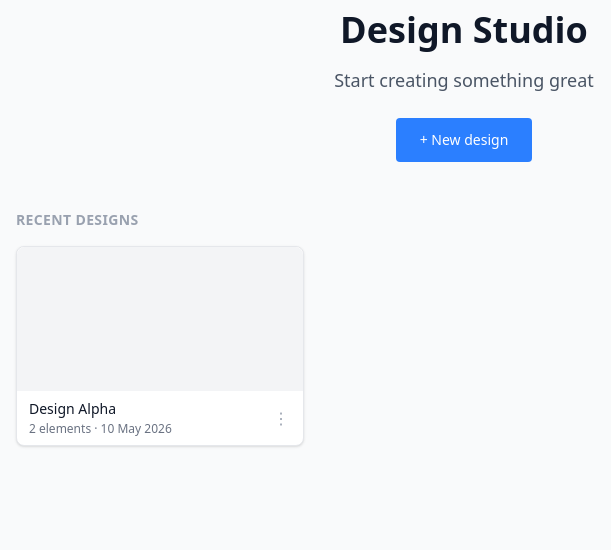
it: AC3 — dropdown opens with Rename option › clicking ⋮ again closes the dropdown
Expected: the text "Design Alpha" is shown, [29,399,116,418]
Click the button named "project options". click: click(281, 418)
box: [271,399,291,437]
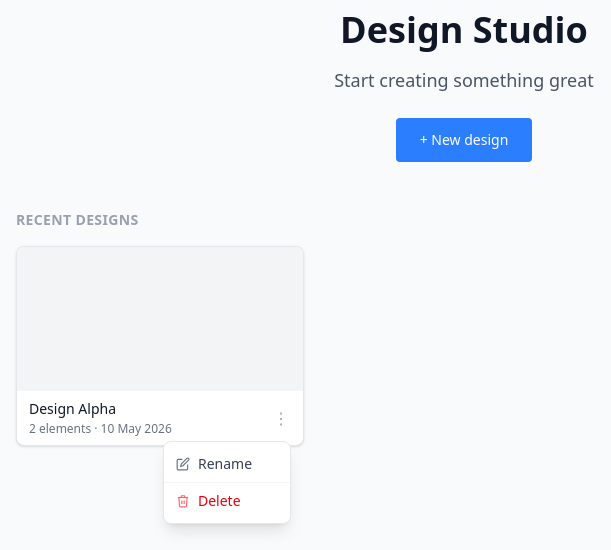
Click the button named "project options". click: click(281, 418)
box: [271,399,291,437]
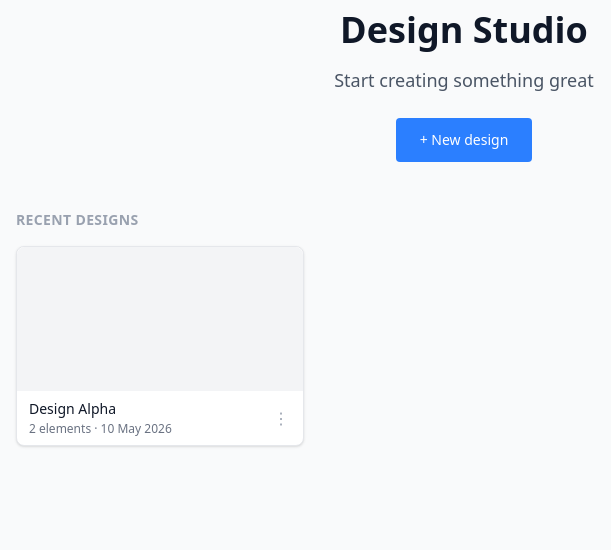
Result: the button "Rename" is gone
